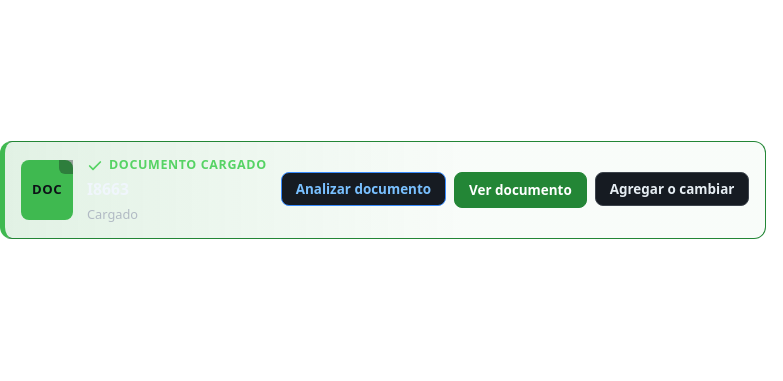
Test: Analizar documento › descarga el documento guardado y dice si coincide con la factura
Click the button "Analizar documento": [363, 189] box [281,172,446,206]
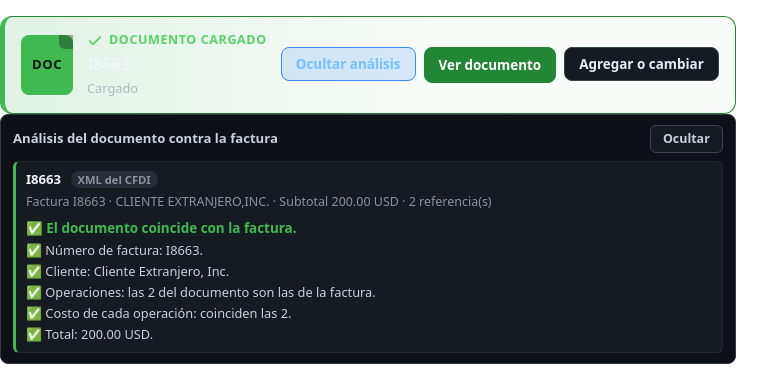
Expected: the text "✅ El documento coincide con la factura." is shown, [26,219,297,237]
Ocultar y volver a abrir no lo descarga otra vez.
Click the button "Ocultar análisis": [348, 64] box [281,47,416,81]
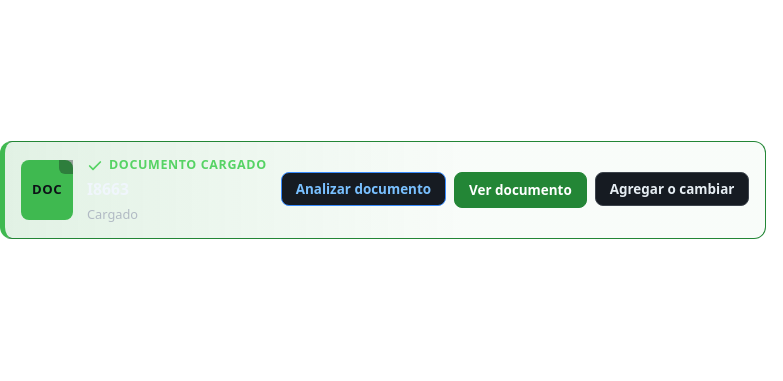
Click the button "Analizar documento": [363, 189] box [281,172,446,206]
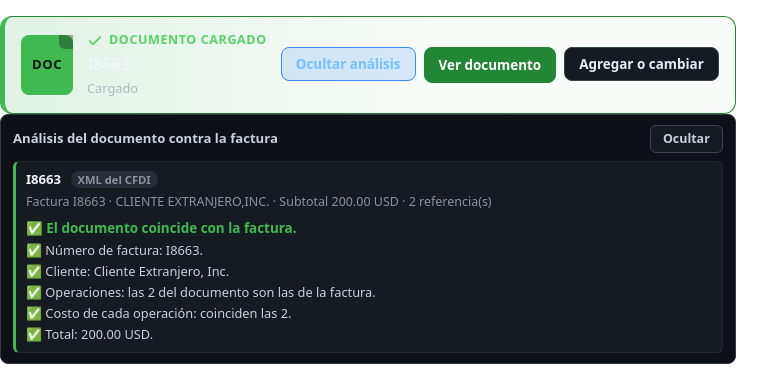
Expected: the text "✅ El documento coincide con la factura." is shown, [26,219,297,237]
